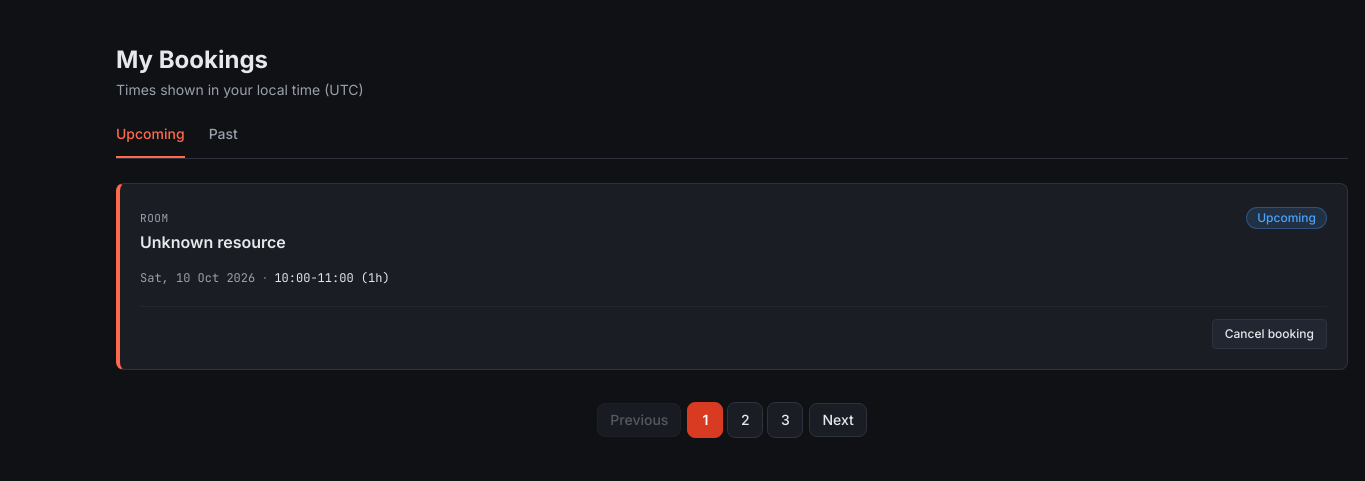
Scenario: MyBookings Page › renders Pagination only when there is more than one page and scrolls to top on page change
Check: the navigation bar named "pagination" is shown, box [597,402,867,438]
Click the button named "Page 2": (745, 420) [727,402,763,438]
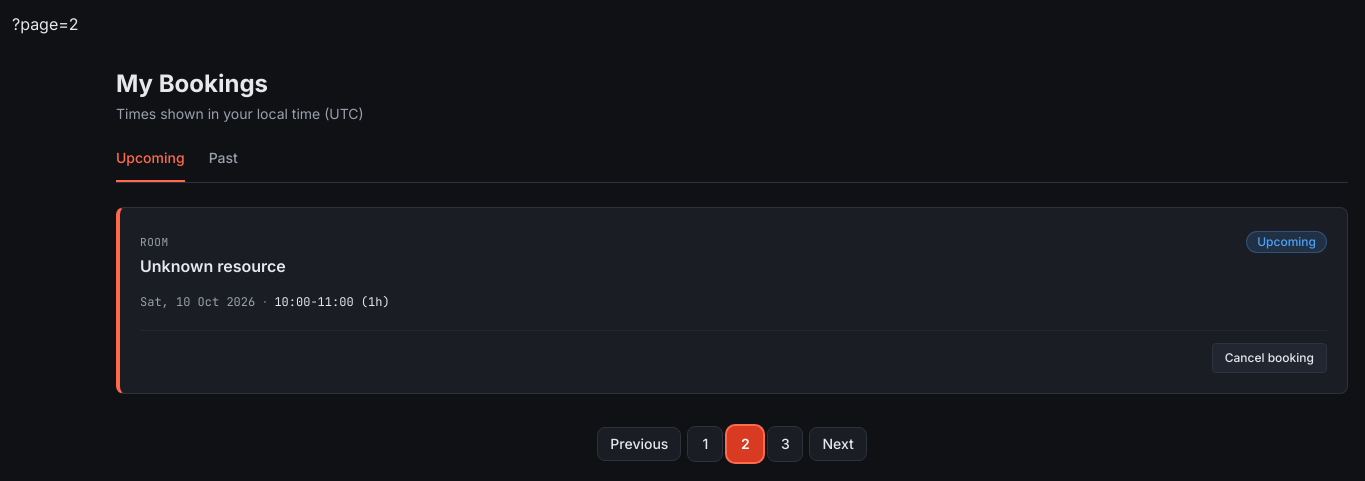
Check: the text with test id "location-search" reads "?page=2", box [12,14,79,34]
